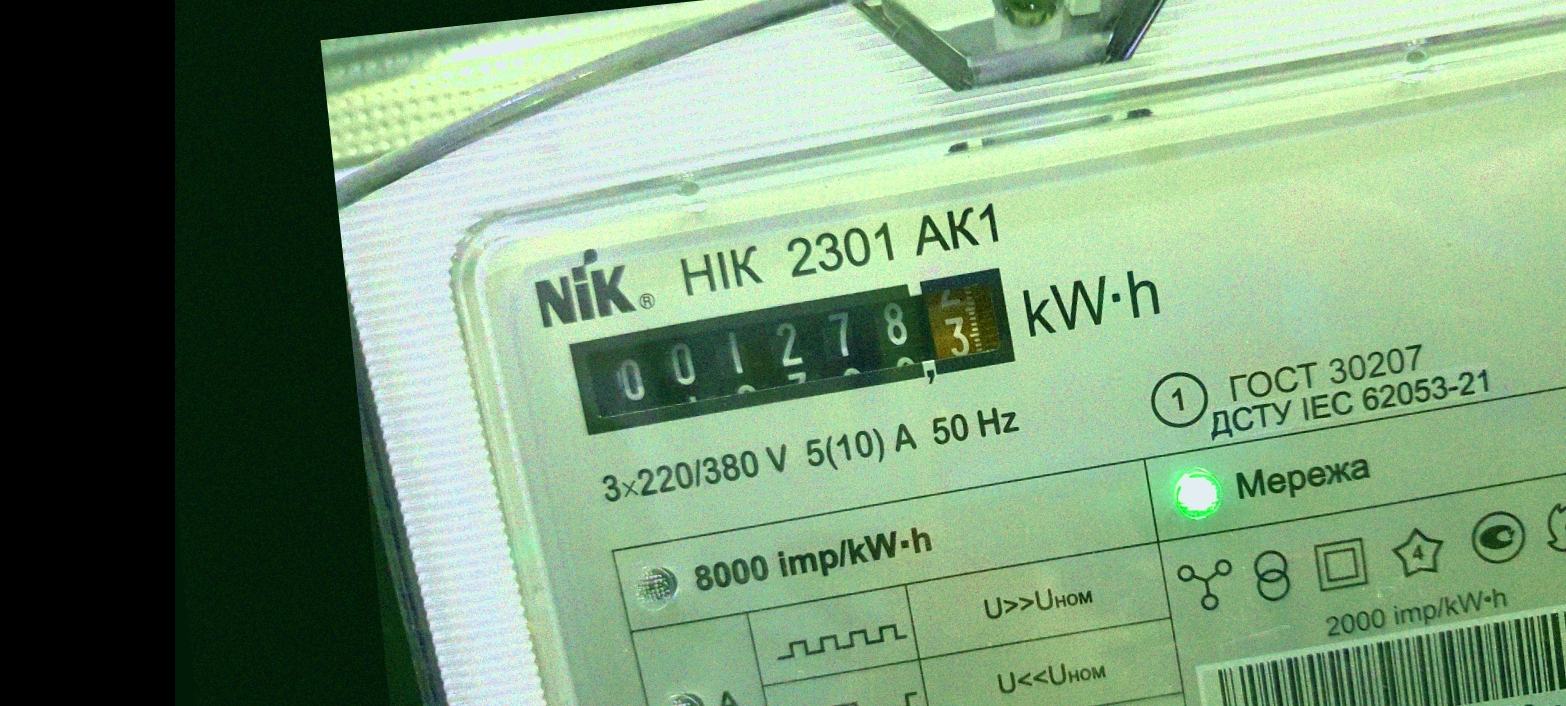0: (618, 353, 651, 403), (669, 338, 699, 387)
1: (727, 327, 748, 377)
2: (774, 318, 806, 367), (937, 286, 965, 309)
3: (943, 310, 974, 357)
7: (828, 308, 855, 359)
8: (881, 298, 912, 348)
screen: (548, 254, 1037, 446)
